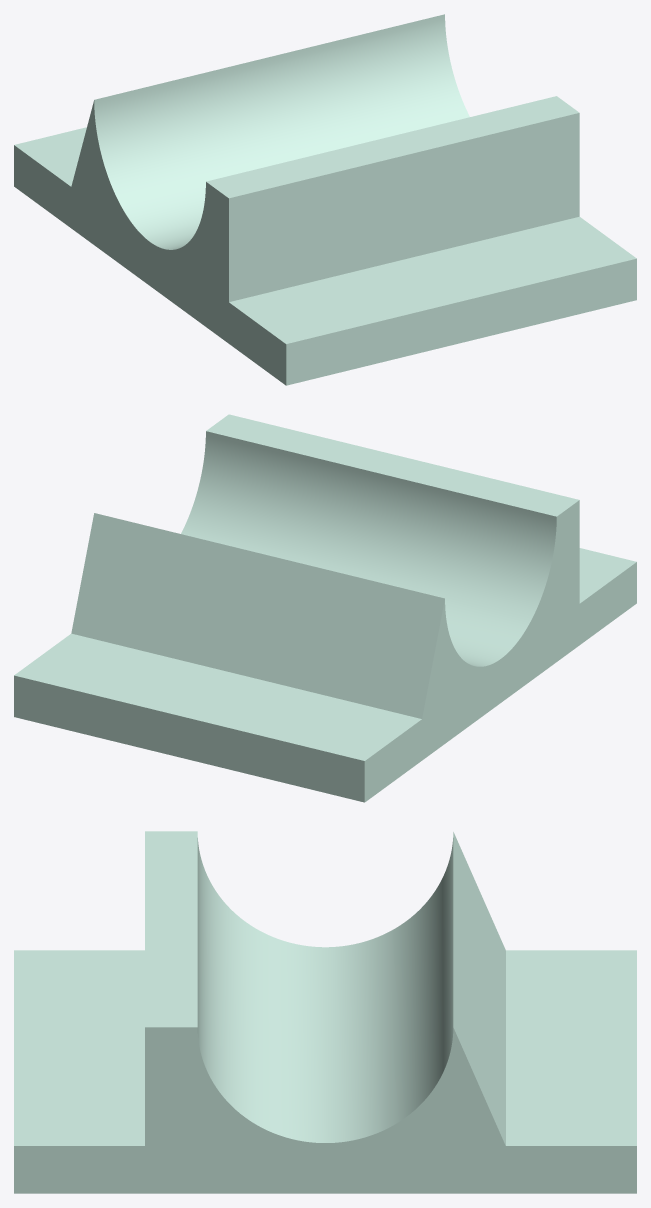
The picture shows the model from 3 angles, top to bottom: view 1: azimuth 30°, elevation 25°; view 2: azimuth 150°, elevation 25°; view 3: azimuth 270°, elevation 25°; orthographic projection. The views are drawn at different scales.
Parts seen in each view (by area): view 1: Renderer Node; view 2: Renderer Node; view 3: Renderer Node.
Part boxes in pixels (x1,y1,x2,y2): Renderer Node: (14,14,636,385); Renderer Node: (14,414,636,802); Renderer Node: (14,831,636,1193).
Bounding box in the file's own units: 0.5 × 0.198 × 0.6719.
